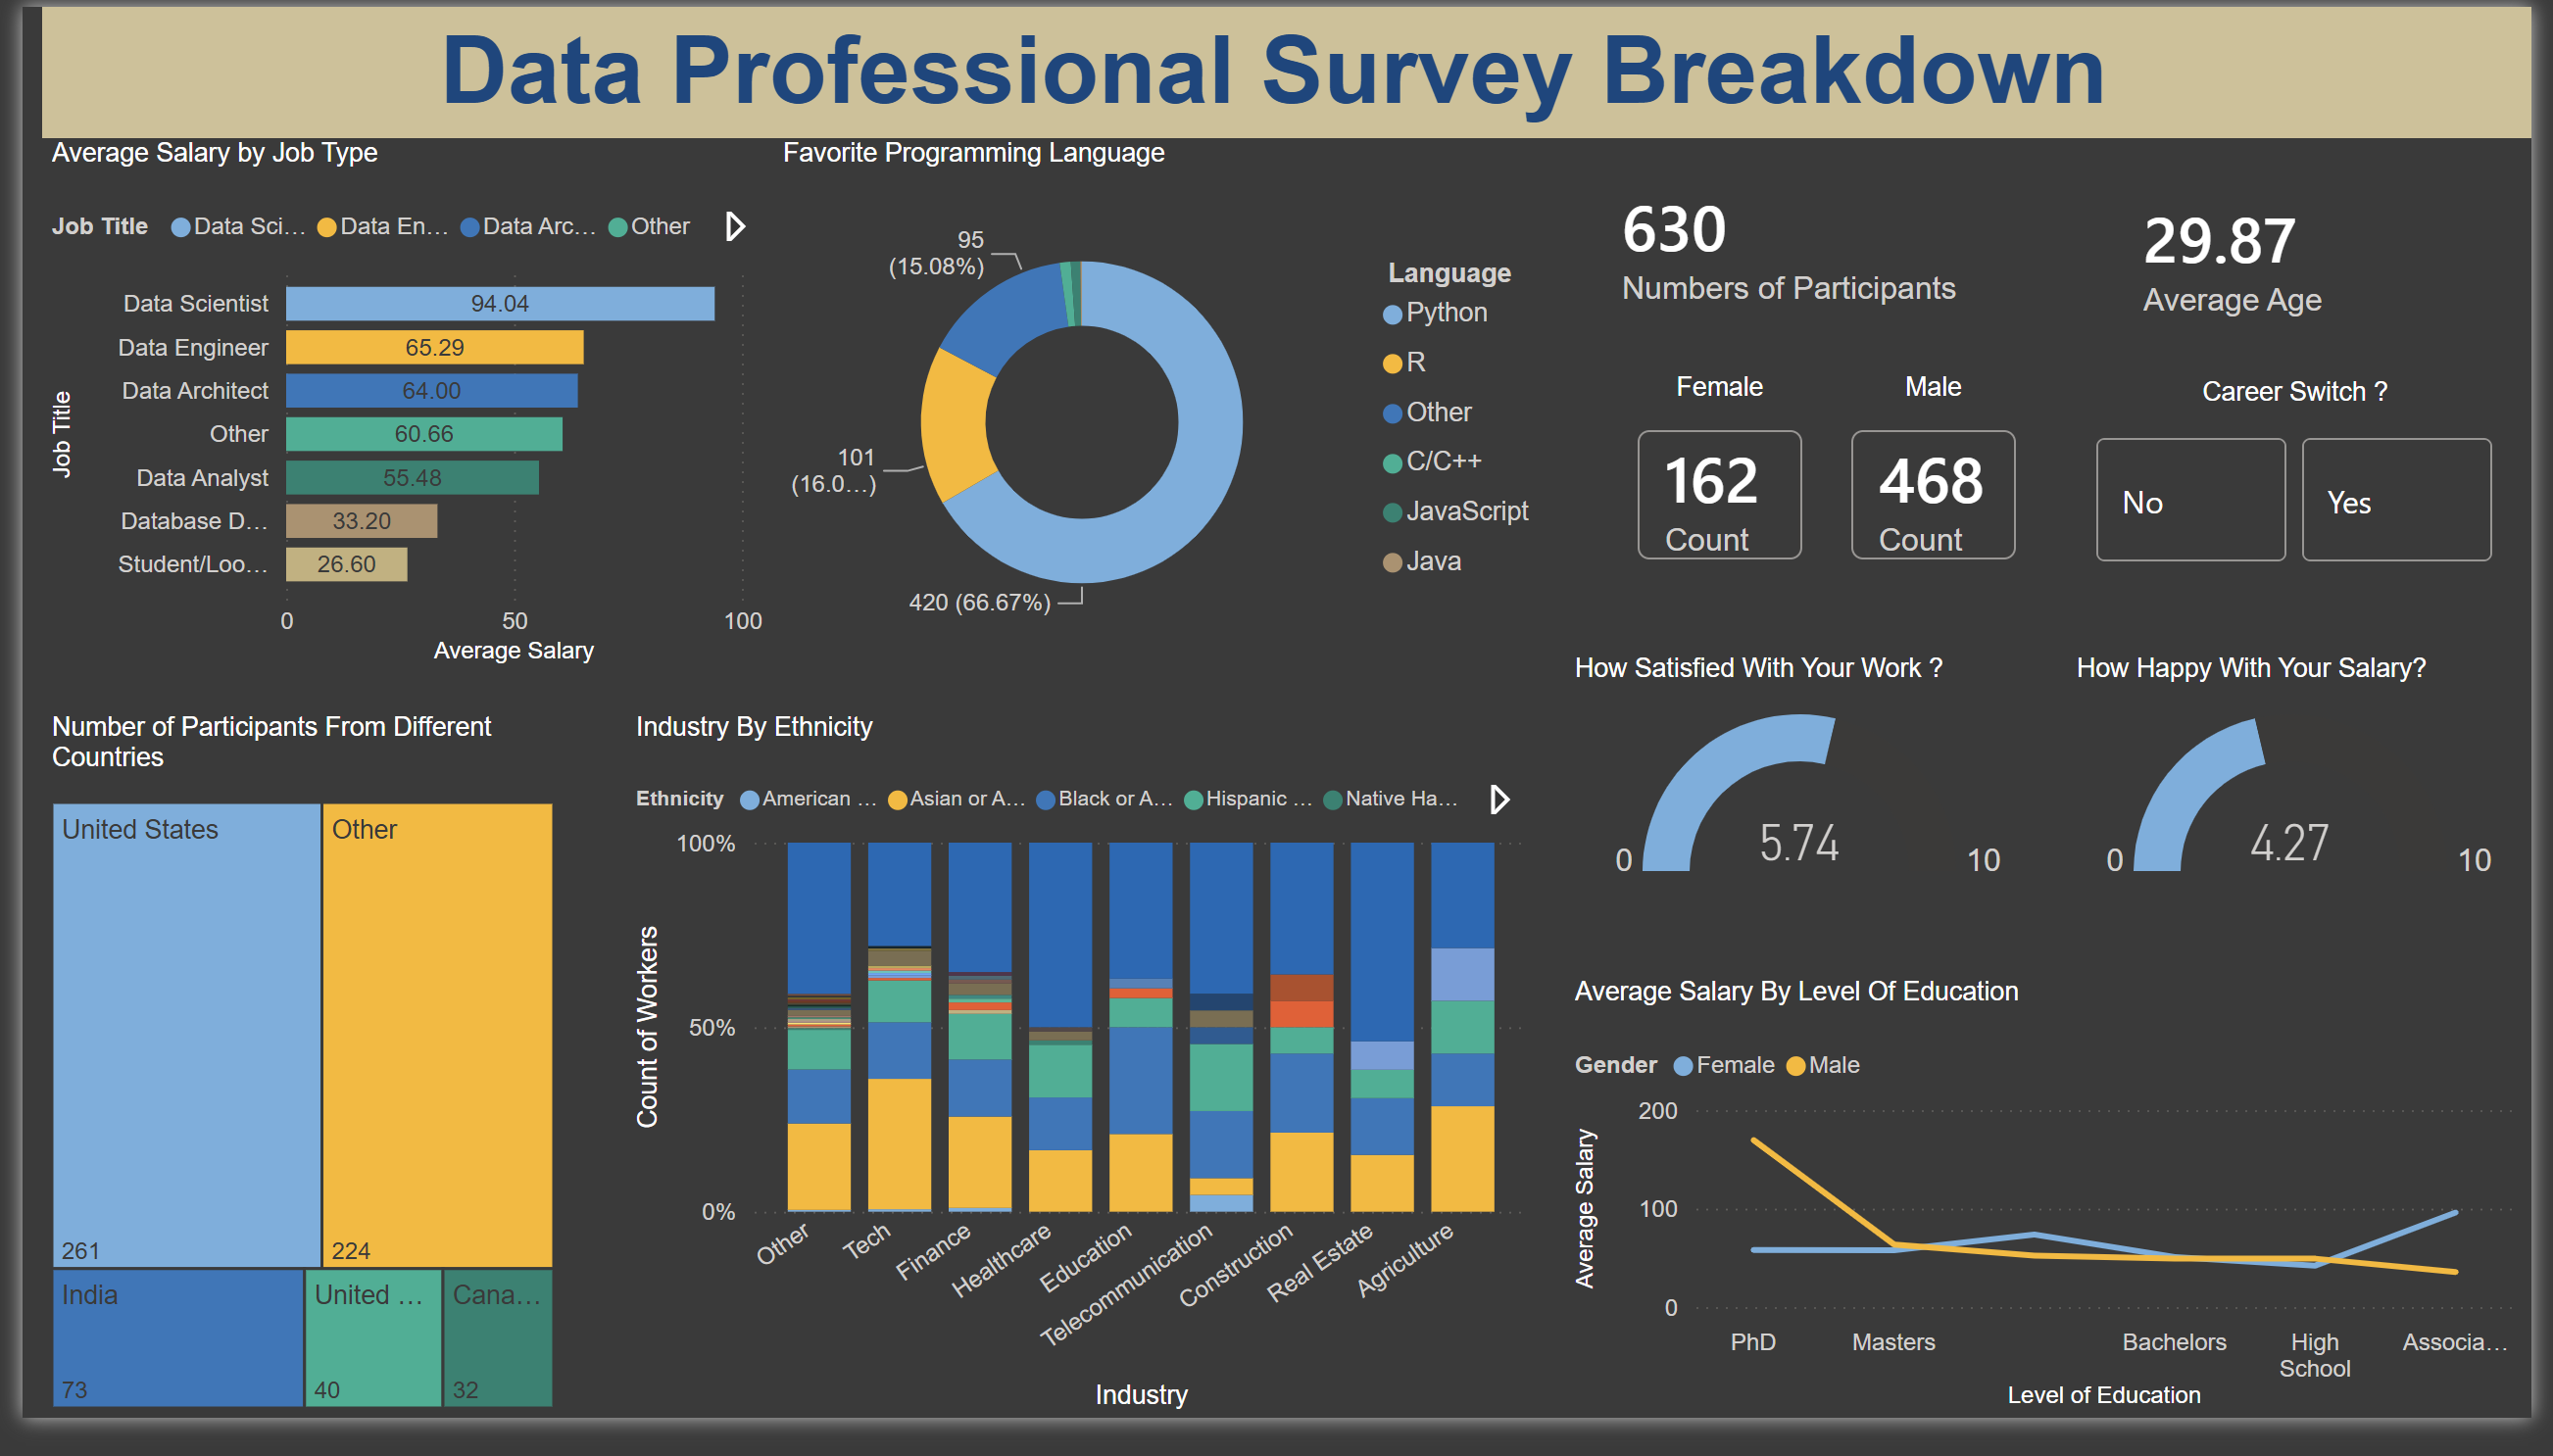

The dashboard page shown, as its layout file describes it:
{"tool":"powerbi","page":{"name":"Page 1","canvas":[1280,720],"ordinal":0},"visuals":[{"type":"textbox","box":[9.8,0,1270.1,67.1],"z":0},{"type":"cardVisual","fields":{"Data":["CountNonNull(Data Professional Survey.Unique ID)"]},"box":[787.3,67.3,275.4,107.2],"z":1},{"type":"cardVisual","fields":{"Data":["Avg(Data Professional Survey.Q10 - Current Age)"]},"box":[1053,73.5,213.4,107.2],"z":2},{"type":"barChart","title":"Average Salary by Job Type ","fields":{"Category":["Data Professional Survey.Q1 - Which Title Best Fits your Current Role?.1"],"Y":["Avg(Data Professional Survey.Average Salary )"],"Series":["Data Professional Survey.Q1 - Which Title Best Fits your Current Role?.1"]},"box":[9.8,67.1,373,272.8],"z":3},{"type":"donutChart","title":"Favorite Programming Language ","fields":{"Category":["Data Professional Survey.Q5 - Favorite Programming Language.1.1"],"Y":["CountNonNull(Data Professional Survey.Q5 - Favorite Programming Language.1.1)"]},"box":[382.6,67.3,404.7,263.9],"z":4},{"type":"treemap","title":"Number of Participants From Different Countries ","fields":{"Values":["CountNonNull(Data Professional Survey.Q11 - Which Country do you live in?.1)"],"Group":["Data Professional Survey.Q11 - Which Country do you live in?.1"]},"box":[9.8,359.6,266.5,360.4],"z":5},{"type":"gauge","title":"How Satisfied With Your Work ?","fields":{"Y":["Avg(Data Professional Survey.Q6 - How Happy are you in your Current Position with the following? (Work/Life Balance))"],"MinValue":["Min(Data Professional Survey.Q6 - How Happy are you in your Current Position with the following? (Work/Life Balance))1"],"MaxValue":["Max(Data Professional Survey.Q6 - How Happy are you in your Current Position with the following? (Work/Life Balance))"]},"box":[787.3,330.3,248,120.4],"z":6},{"type":"gauge","title":"How Happy With Your Salary?","fields":{"Y":["Avg(Data Professional Survey.Q6 - How Happy are you in your Current Position with the following? (Salary))"],"MinValue":["Min(Data Professional Survey.Q6 - How Happy are you in your Current Position with the following? (Salary))"],"MaxValue":["Max(Data Professional Survey.Q6 - How Happy are you in your Current Position with the following? (Salary))"]},"box":[1042.9,330,237,120.7],"z":7},{"type":"cardVisual","fields":{"Rows":["Data Professional Survey.Q9 - Male/Female?"],"Data":["CountNonNull(Data Professional Survey.Q9 - Male/Female?)"]},"box":[787,169,266,130],"z":8},{"type":"hundredPercentStackedColumnChart","title":"Industry By Ethnicity","fields":{"Series":["Data Professional Survey.Q13 - Ethnicity"],"Category":["Data Professional Survey.Q4 - What Industry do you work in?.1"],"Y":["CountNonNull(Data Professional Survey.Q4 - What Industry do you work in?.1)"]},"box":[308.2,360.4,464.9,360.4],"z":9},{"type":"lineChart","title":"Average Salary By Level Of Education","fields":{"Y":["Avg(Data Professional Survey.Average Salary )"],"Category":["Data Professional Survey.Q12 - Highest Level of Education"],"Series":["Data Professional Survey.Q9 - Male/Female?"]},"box":[787.3,495.1,492.4,224.9],"z":10},{"type":"advancedSlicerVisual","title":"Career Switch ?","fields":{"Values":["Data Professional Survey.Q2 - Did you switch careers into Data?"]},"box":[1053,188.6,213.4,99.2],"z":11}]}

Visuals, with their boxes in screenshot pixels (x1, y1, x2, y2), scaled from the page's 1280x720 canvas onto the 2553x1456 screenshot:
textbox: x1=20 y1=0 x2=2552 y2=135
cardVisual - CountNonNull(Data Professional Survey.Unique ID): x1=1570 y1=136 x2=2120 y2=353
cardVisual - Avg(Data Professional Survey.Q10 - Current Age): x1=2100 y1=149 x2=2526 y2=365
"Average Salary by Job Type " barChart: x1=20 y1=135 x2=763 y2=688
"Favorite Programming Language " donutChart: x1=763 y1=136 x2=1570 y2=670
"Number of Participants From Different Countries " treemap: x1=20 y1=727 x2=551 y2=1455
"How Satisfied With Your Work ?" gauge: x1=1570 y1=668 x2=2065 y2=911
"How Happy With Your Salary?" gauge: x1=2080 y1=667 x2=2552 y2=911
cardVisual - Data Professional Survey.Q9 - Male/Female? x CountNonNull(Data Professional Survey.Q9 - Male/Female?): x1=1570 y1=342 x2=2100 y2=605
"Industry By Ethnicity" hundredPercentStackedColumnChart: x1=614 y1=729 x2=1542 y2=1455
"Average Salary By Level Of Education" lineChart: x1=1570 y1=1001 x2=2552 y2=1455
"Career Switch ?" advancedSlicerVisual: x1=2100 y1=381 x2=2526 y2=582
